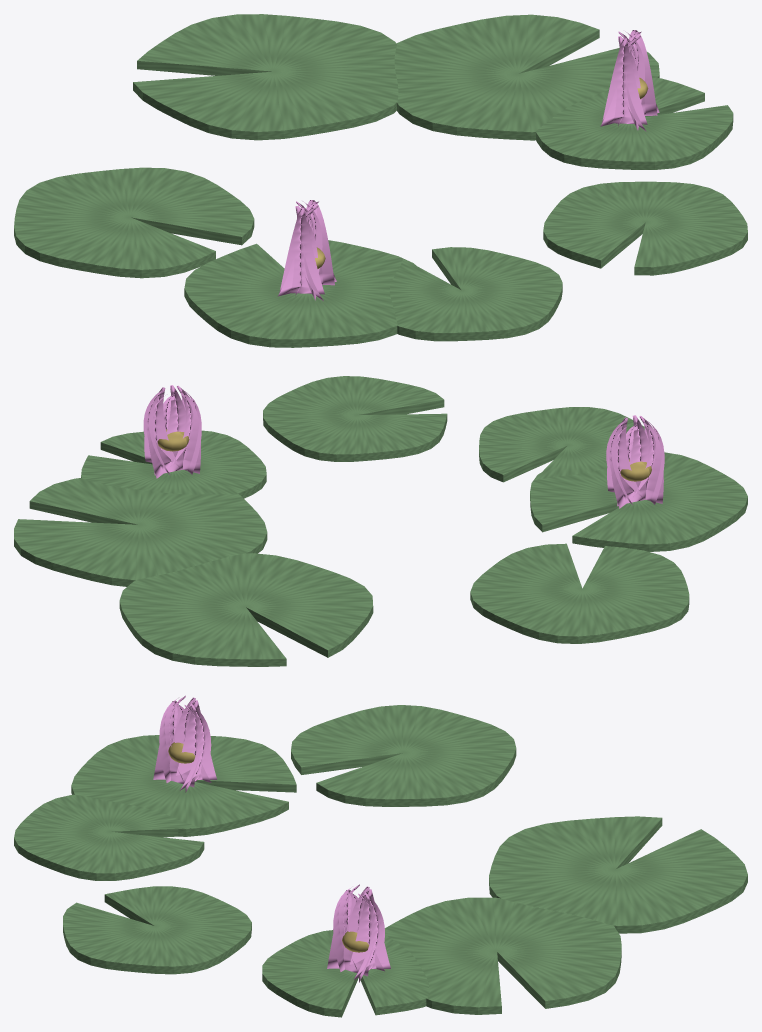
File: lily_pads_with_flowers_swamp_and_mangrove_22623.glb
3 views of the same model, one above another, from view 1: azimuth 30°, elevation 25°; view 2: azimuth 150°, elevation 25°; view 3: azimuth 270°, elevation 25° (orthographic). The views are drawn at different scales.
Parts seen in each view (by area): view 1: flowering-lily-pads; view 2: flowering-lily-pads; view 3: flowering-lily-pads.
Boxes of the visible parts, x1,y1,x2,y2 form: flowering-lily-pads: [14, 14, 747, 347]; flowering-lily-pads: [14, 376, 747, 666]; flowering-lily-pads: [14, 695, 747, 1017].
Size of the model in its own units: 1.68 by 0.2254 by 1.71.
Materials: 3 (2 with a texture image).
